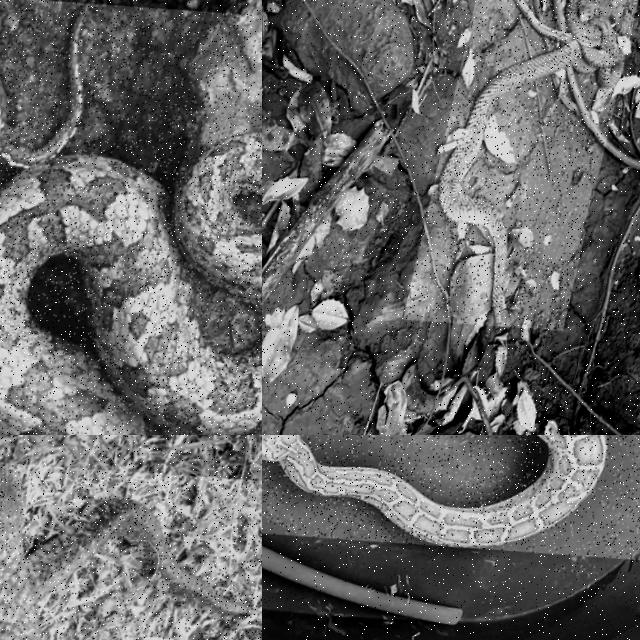Chrysopelea ornata: (438, 0, 623, 327)
Naja kaouthia: (0, 467, 261, 639)
Ovophis monticola: (0, 5, 261, 434)
Python bivittatus: (262, 435, 601, 548)
snake: (0, 5, 261, 434), (438, 0, 623, 327), (0, 467, 261, 639), (262, 435, 601, 548)
